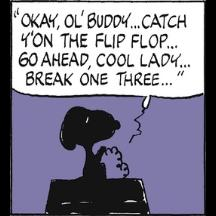snoopy: (59, 104, 123, 182)
